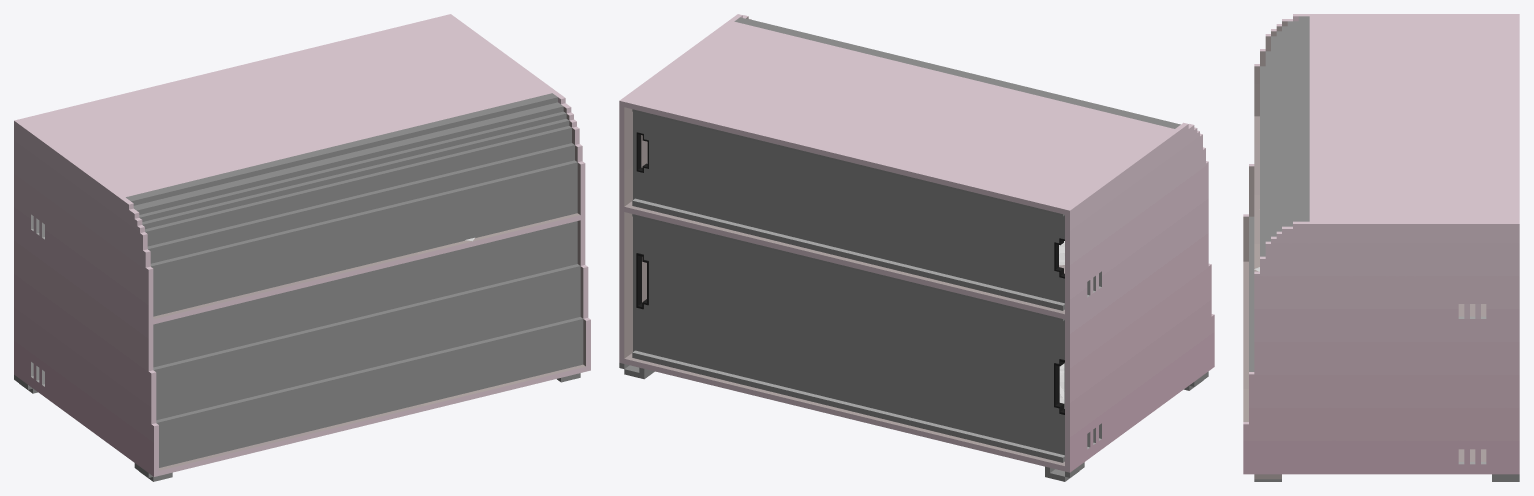
Rendered from BakeryDisplay.fbx.
The picture shows the model from 3 angles, left to right: view 1: azimuth 30°, elevation 25°; view 2: azimuth 150°, elevation 25°; view 3: azimuth 270°, elevation 25°; orthographic projection. The views are drawn at different scales.
Visible parts, largest first — view 1: Glass, BakeryDisplay; view 2: BakeryDisplay, Door_BR, Door_BL, Door_TR, Door_TL, Glass; view 3: BakeryDisplay, Glass.
Boxes of the visible parts, x1,y1,x2,y2 form: Glass: [126, 93, 583, 467]; BakeryDisplay: [14, 14, 590, 481]; BakeryDisplay: [619, 14, 1214, 481]; Door_BR: [835, 266, 1064, 455]; Door_BL: [633, 216, 835, 398]; Door_TR: [835, 161, 1064, 303]; Door_TL: [633, 112, 835, 247]; Glass: [734, 17, 1180, 128]; BakeryDisplay: [1243, 14, 1519, 481]; Glass: [1249, 16, 1309, 371].
Size of the model in its own units: 900 by 520 by 500.
4 materials, 4 textured.
